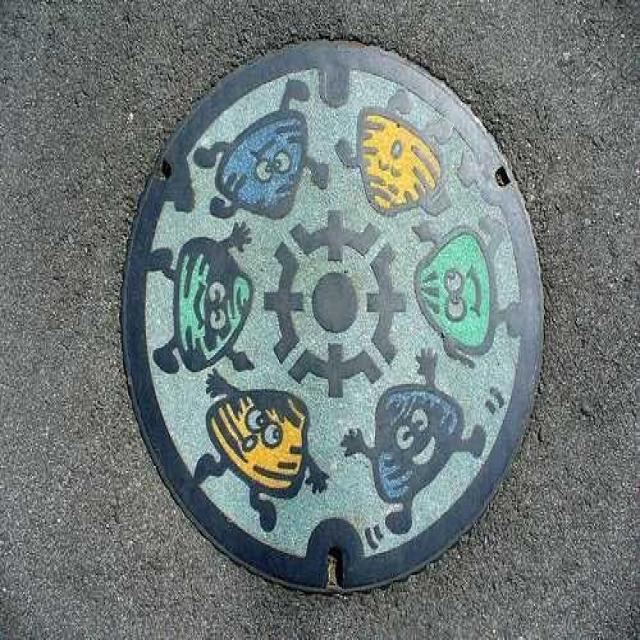manhole: (122, 42, 542, 592)
